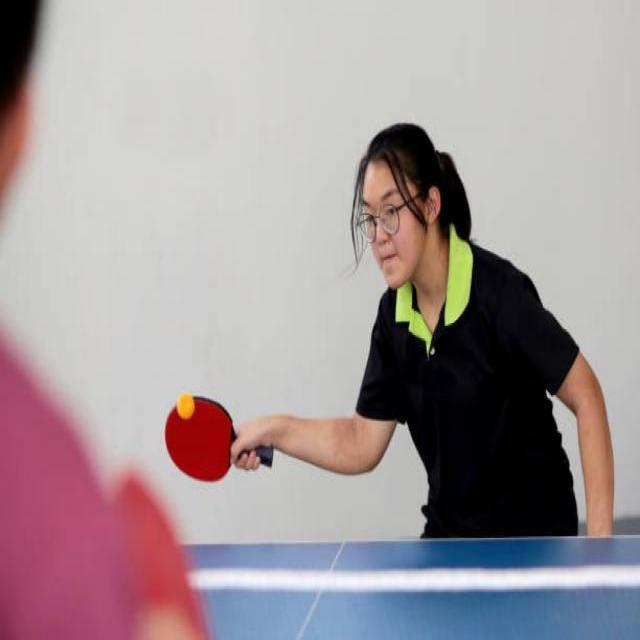oball: (175, 392, 192, 416)
